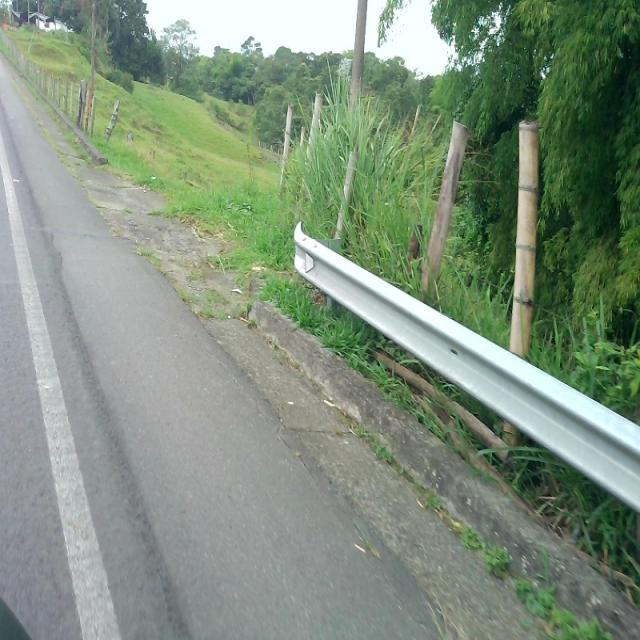DITCH: (1, 46, 638, 638), (1, 81, 638, 638), (75, 43, 638, 638)
